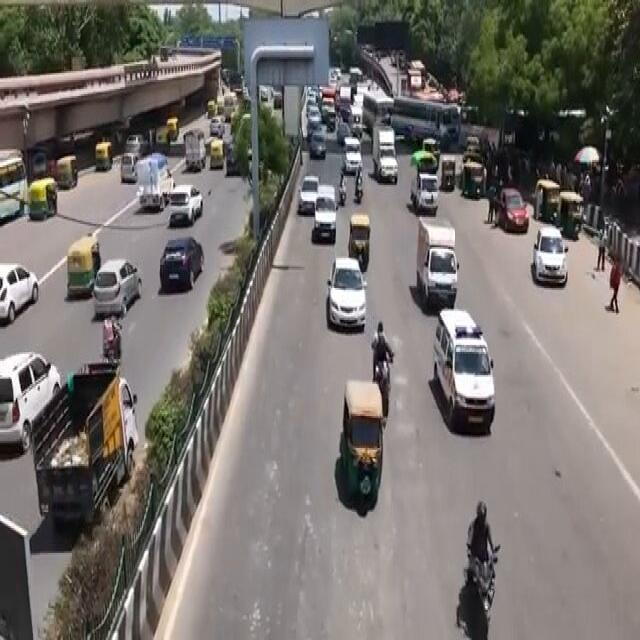three_wheeler: (322, 372, 396, 528)
